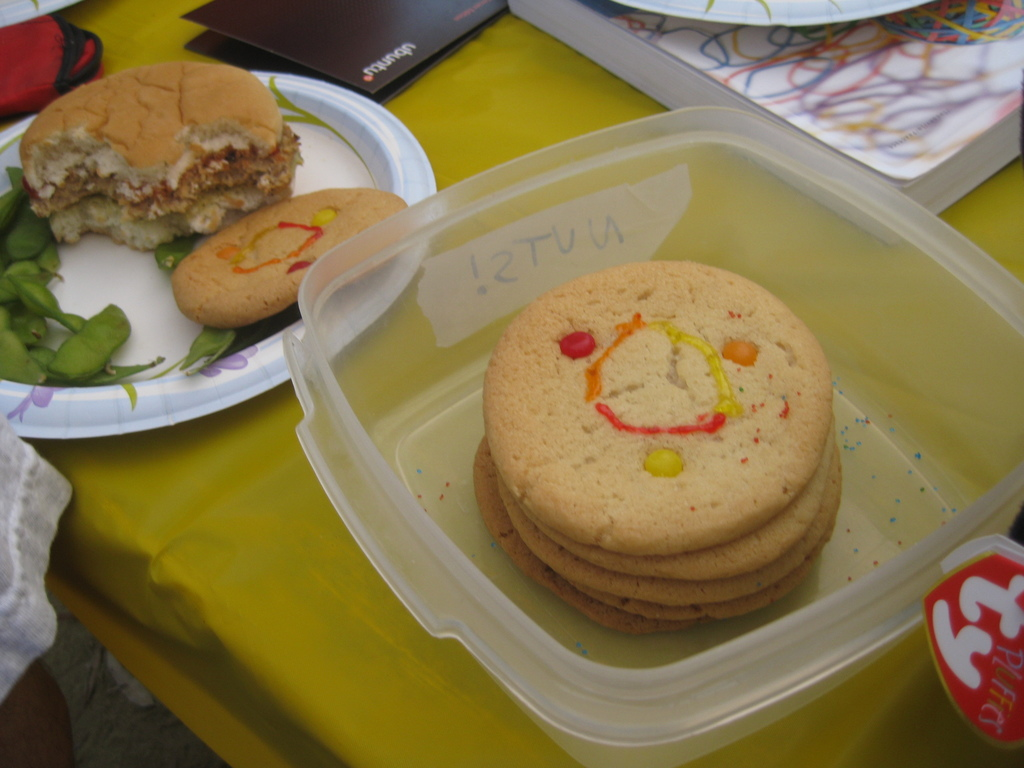Hamburger: (14, 62, 321, 240)
